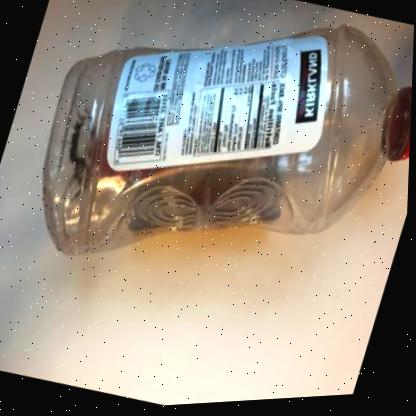Plastic: (43, 28, 413, 253)
